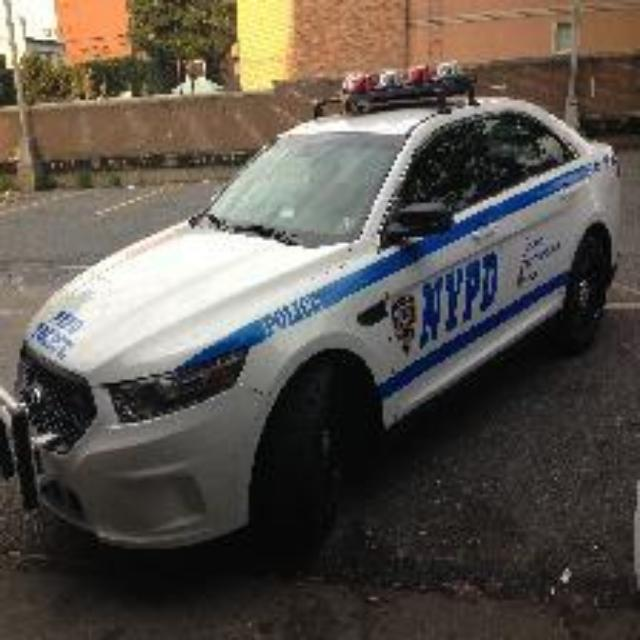emergency: (6, 60, 624, 568)
